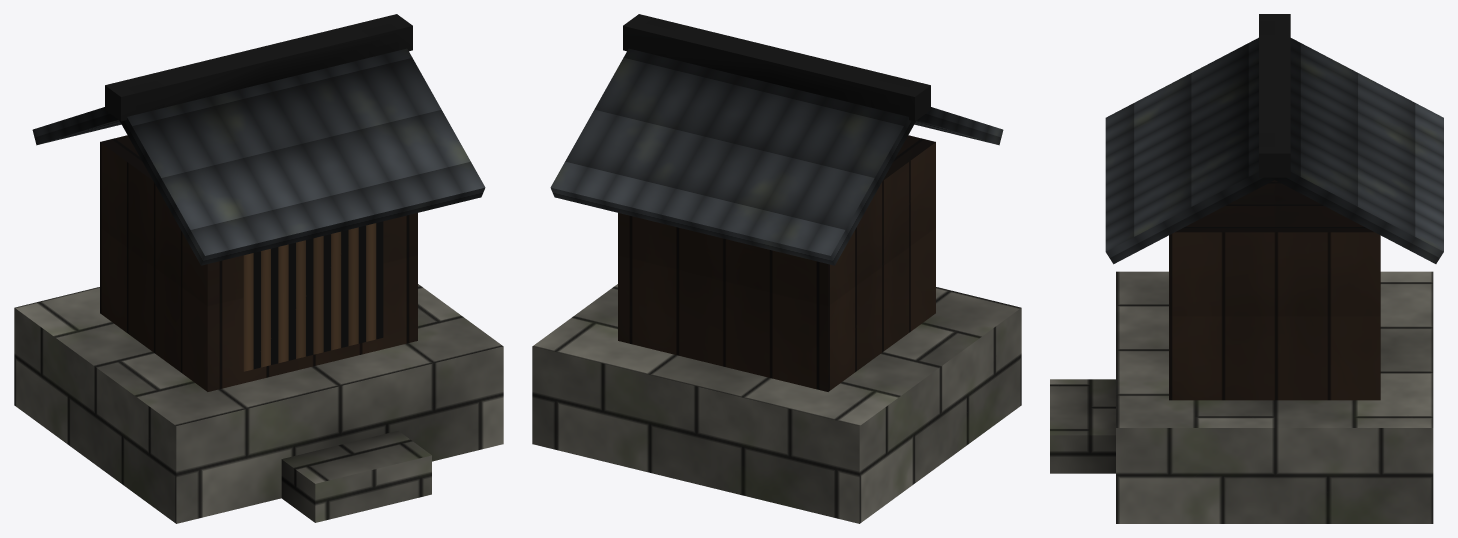
The model's file is hokora.glb.
3 renders of one model, left to right at view 1: azimuth 30°, elevation 25°; view 2: azimuth 150°, elevation 25°; view 3: azimuth 270°, elevation 25°, orthographic. The views are drawn at different scales.
Visible parts, largest first — view 1: hokora; view 2: hokora; view 3: hokora.
Part boxes in pixels (box(x1,y1,x2,y2)): hokora: box(14, 14, 503, 523); hokora: box(532, 14, 1021, 523); hokora: box(1050, 14, 1443, 523).
Size of the model in its own units: 1.4 by 1.51 by 1.49.
Materials: 5 (5 with a texture image).
